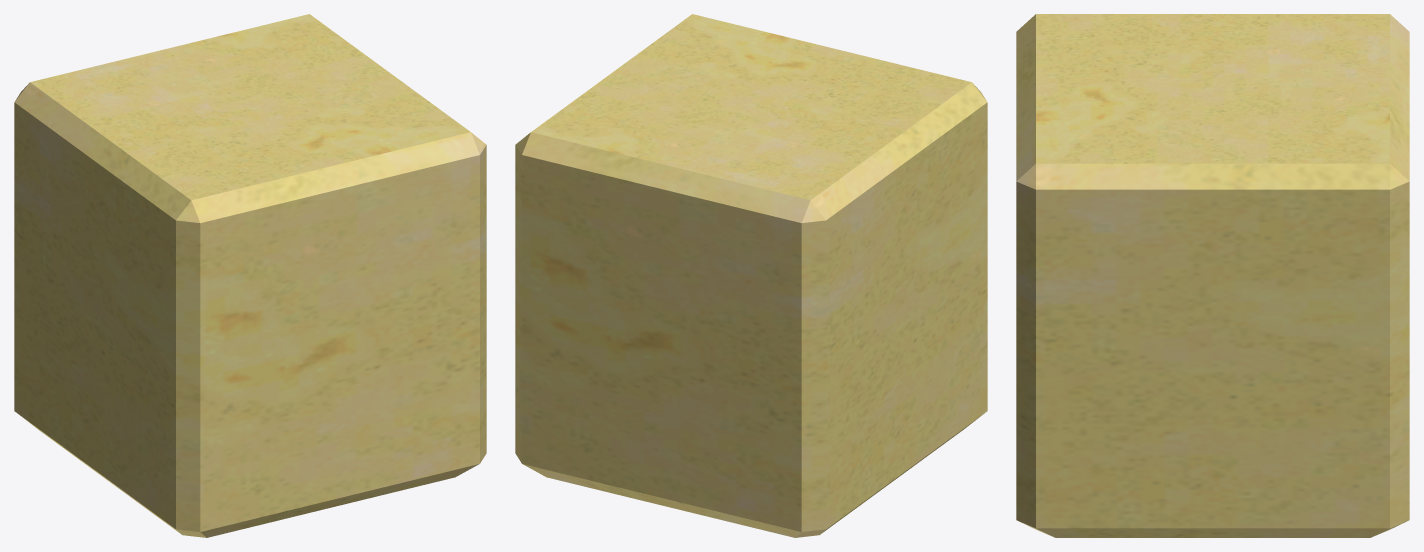
File: sandbirdblock_bake.dae
The picture shows the model from 3 angles, left to right: view 1: azimuth 30°, elevation 25°; view 2: azimuth 150°, elevation 25°; view 3: azimuth 270°, elevation 25°; orthographic projection. The views are drawn at different scales.
Visible parts, largest first — view 1: m0; view 2: m0; view 3: m0.
Part boxes in pixels (bbox=[...]): m0: bbox=[14, 14, 486, 537]; m0: bbox=[515, 14, 987, 537]; m0: bbox=[1016, 14, 1409, 537].
Bounding box in the file's own units: 200 × 210 × 200.
2 materials, 2 textured.
